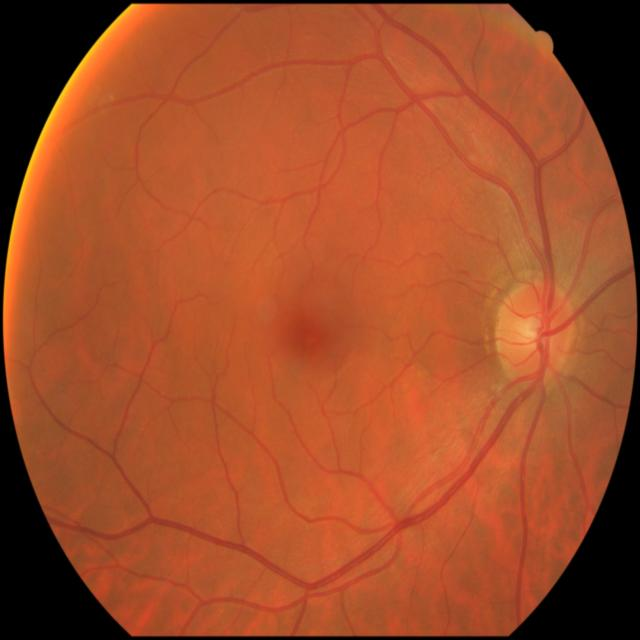OC: (521, 318, 541, 346)
OD: (494, 281, 576, 384)
